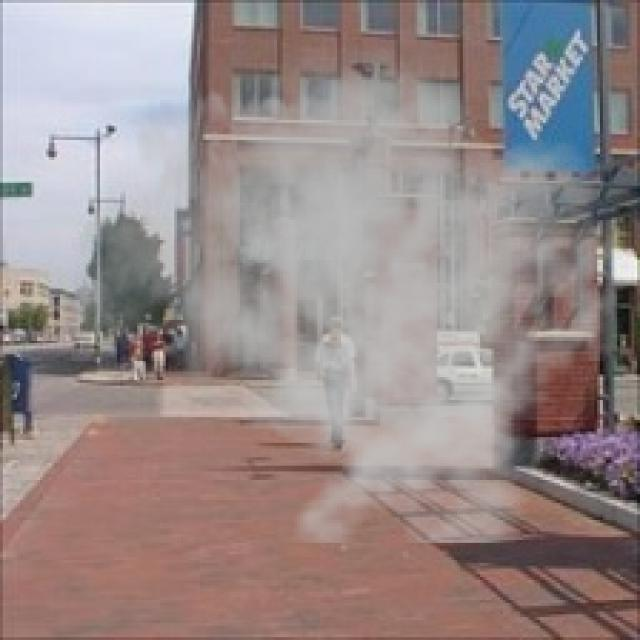smoke: (72, 20, 637, 543)
